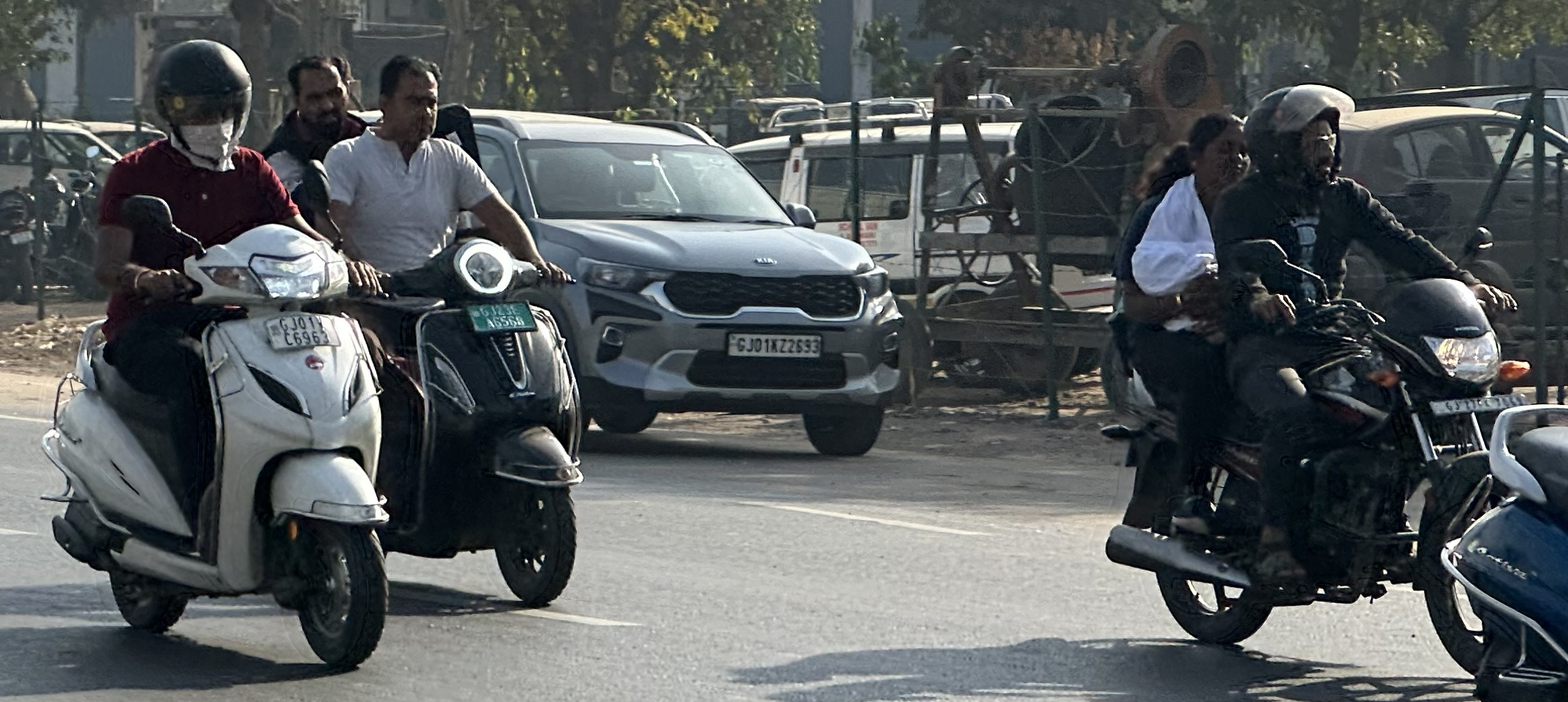BikeWithRider: (1091, 83, 1540, 676), (34, 33, 403, 670), (255, 47, 586, 604)
Helmet: (143, 33, 265, 167), (1244, 83, 1351, 193)
NoHelmet: (283, 47, 358, 138), (1178, 109, 1254, 197), (379, 53, 446, 145)
